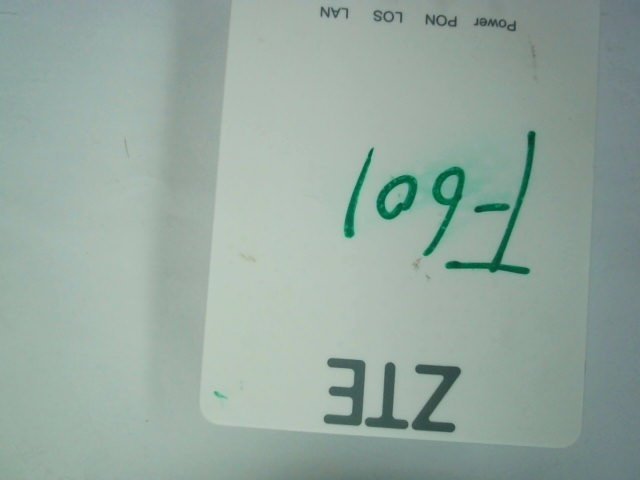AN_ZTE: (325, 348, 460, 434)
